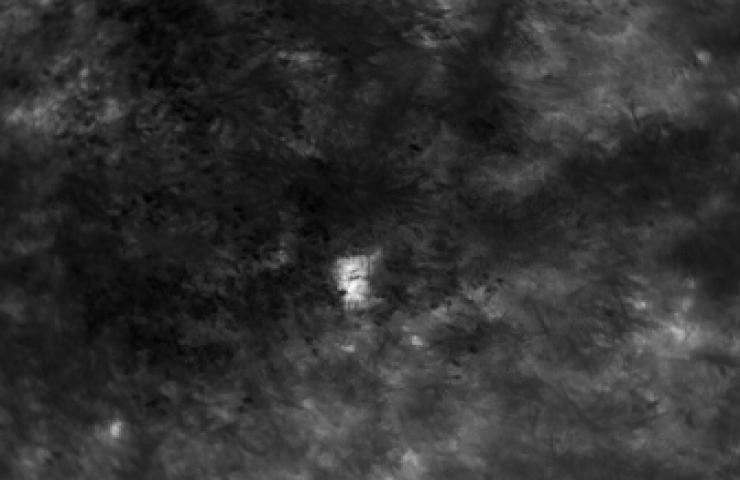landmines: (329, 254, 392, 310)
